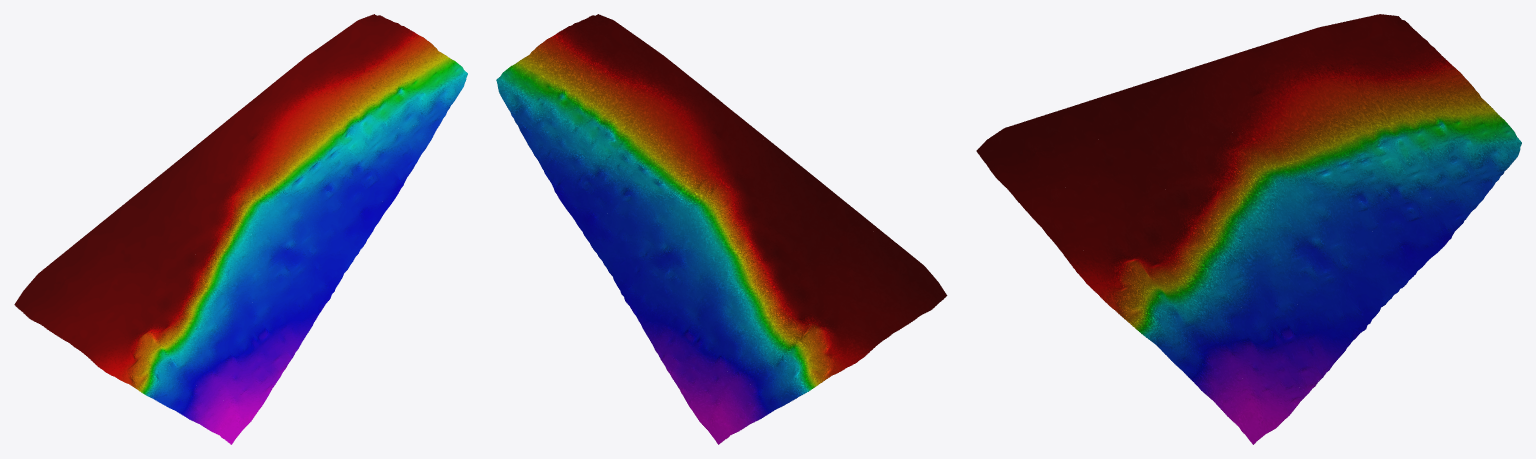
File: Fundo_do_mar.glb
3 renders of one model, left to right at view 1: azimuth 30°, elevation 25°; view 2: azimuth 150°, elevation 25°; view 3: azimuth 330°, elevation 25°, orthographic. The views are drawn at different scales.
Parts seen in each view (by area): view 1: Surface; view 2: Surface; view 3: Surface.
Boxes of the visible parts, box(x1,y1,x2,y2) form: Surface: box(14, 14, 467, 444); Surface: box(496, 14, 947, 444); Surface: box(976, 14, 1521, 444).
Bounding box in the file's own units: 386750 × 325750 × 13798.
1 material, 1 textured.
